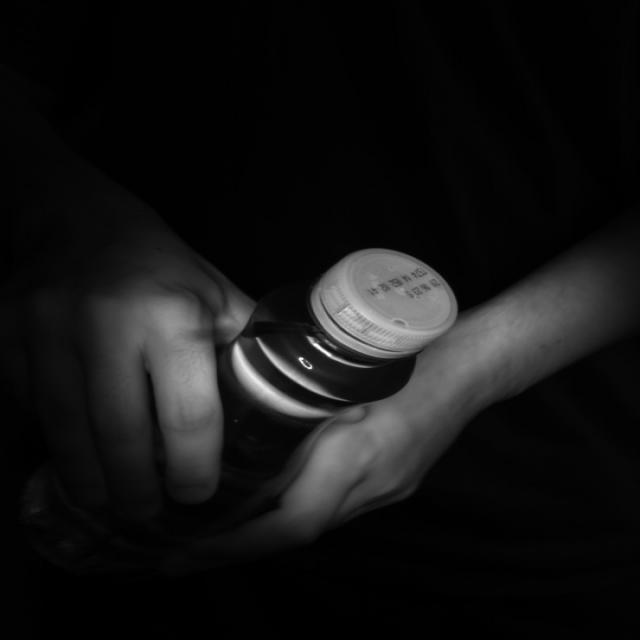Not Good: (311, 248, 458, 360)
